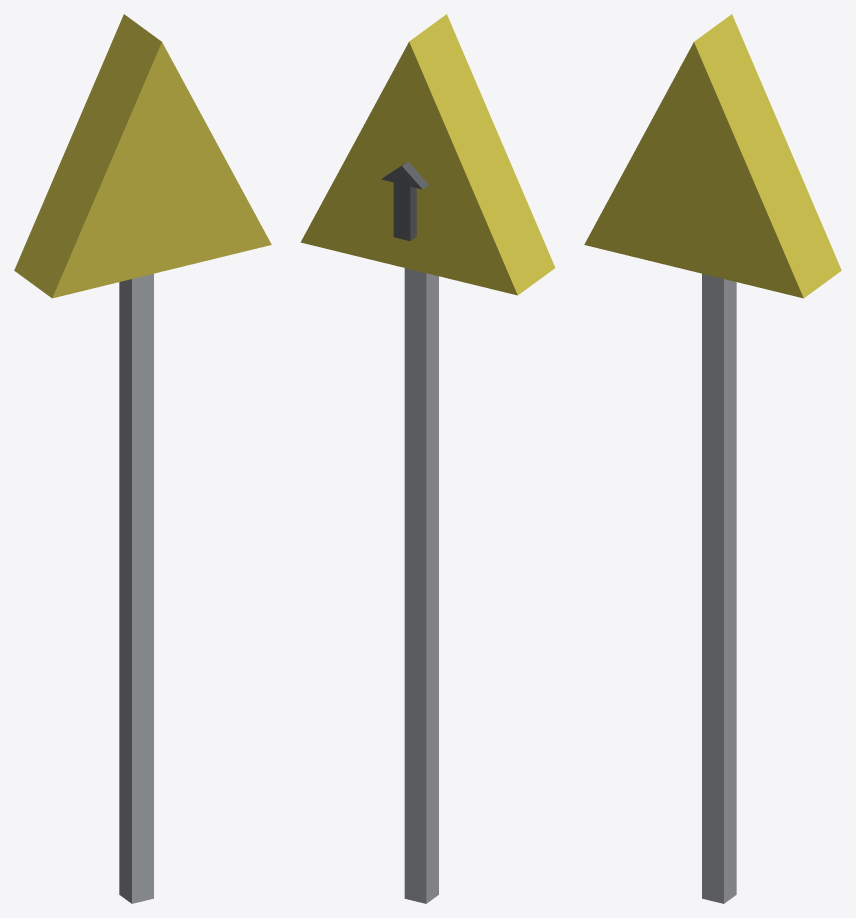
The model's file is sign.glb.
The picture shows the model from 3 angles, left to right: view 1: azimuth 30°, elevation 25°; view 2: azimuth 150°, elevation 25°; view 3: azimuth 330°, elevation 25°; orthographic projection.
Visible parts, largest first — view 1: Mesh_Mesh_head_geo.001_lambert2SG.001; view 2: Mesh_Mesh_head_geo.001_lambert2SG.001; view 3: Mesh_Mesh_head_geo.001_lambert2SG.001.
Boxes of the visible parts, bbox=[...] form: Mesh_Mesh_head_geo.001_lambert2SG.001: bbox=[14, 14, 271, 903]; Mesh_Mesh_head_geo.001_lambert2SG.001: bbox=[300, 14, 555, 903]; Mesh_Mesh_head_geo.001_lambert2SG.001: bbox=[584, 14, 841, 903].
Size of the model in its own units: 20 by 76 by 7.
